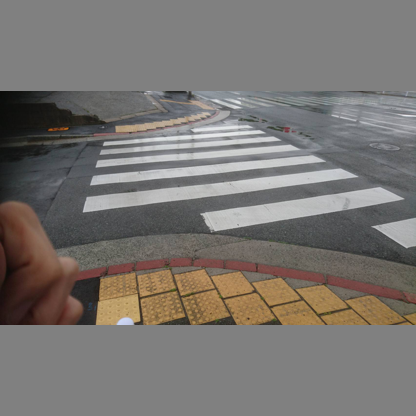brailleblock: (174, 269, 234, 323), (94, 269, 140, 323), (225, 286, 288, 323), (139, 274, 173, 324), (279, 291, 332, 323), (328, 300, 386, 322)
crosswalk: (77, 134, 276, 205), (207, 151, 337, 236)
